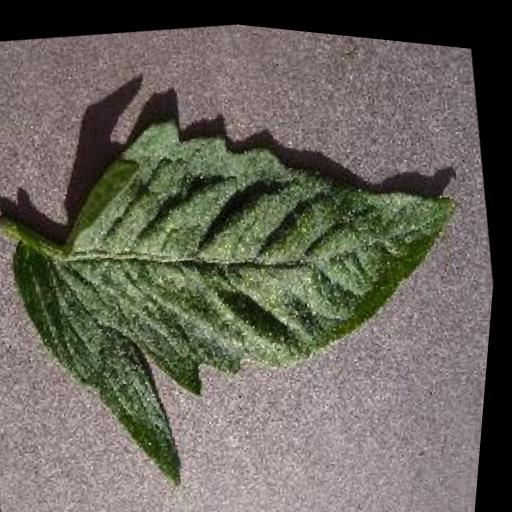Spider Mites: (0, 56, 508, 512)
